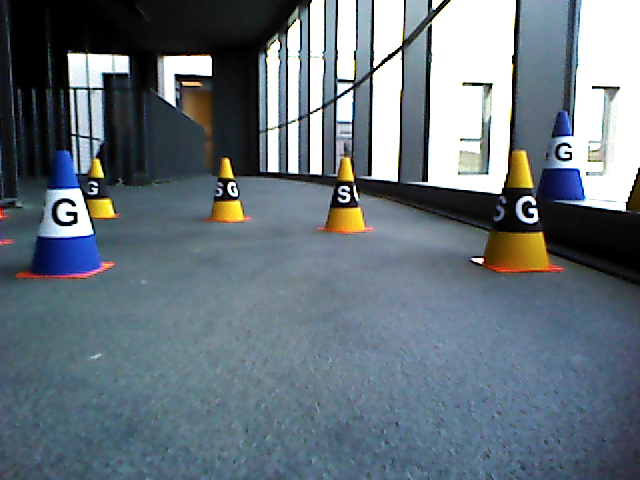bluecone: (31, 150, 98, 273), (540, 112, 584, 199)
yellowcone: (485, 150, 547, 265), (325, 157, 365, 229), (213, 158, 242, 220), (88, 158, 117, 216)
